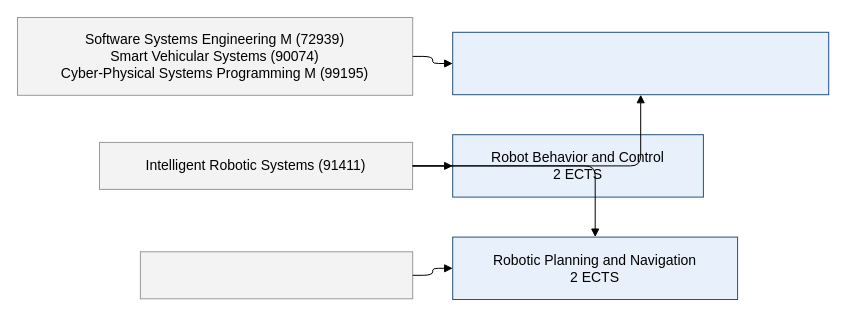
Some shapes in this 847 by 317 pixel diagram are drawn without their labels. Here are the shapes that lost their labels. From the top down, the centre of each, then its label:
point (640, 63): Robot Learning and Autonomous Applications 2 ECTS
point (276, 275): Intelligent Systems M (78778)
